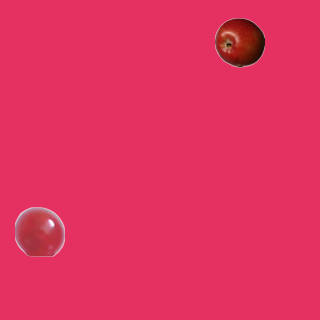Apple Braeburn: (214, 17, 264, 67)
Redcurrant: (14, 206, 64, 256)
